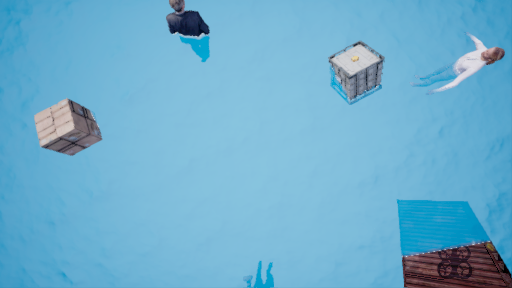person: (409, 30, 505, 107), (170, 2, 213, 64)
